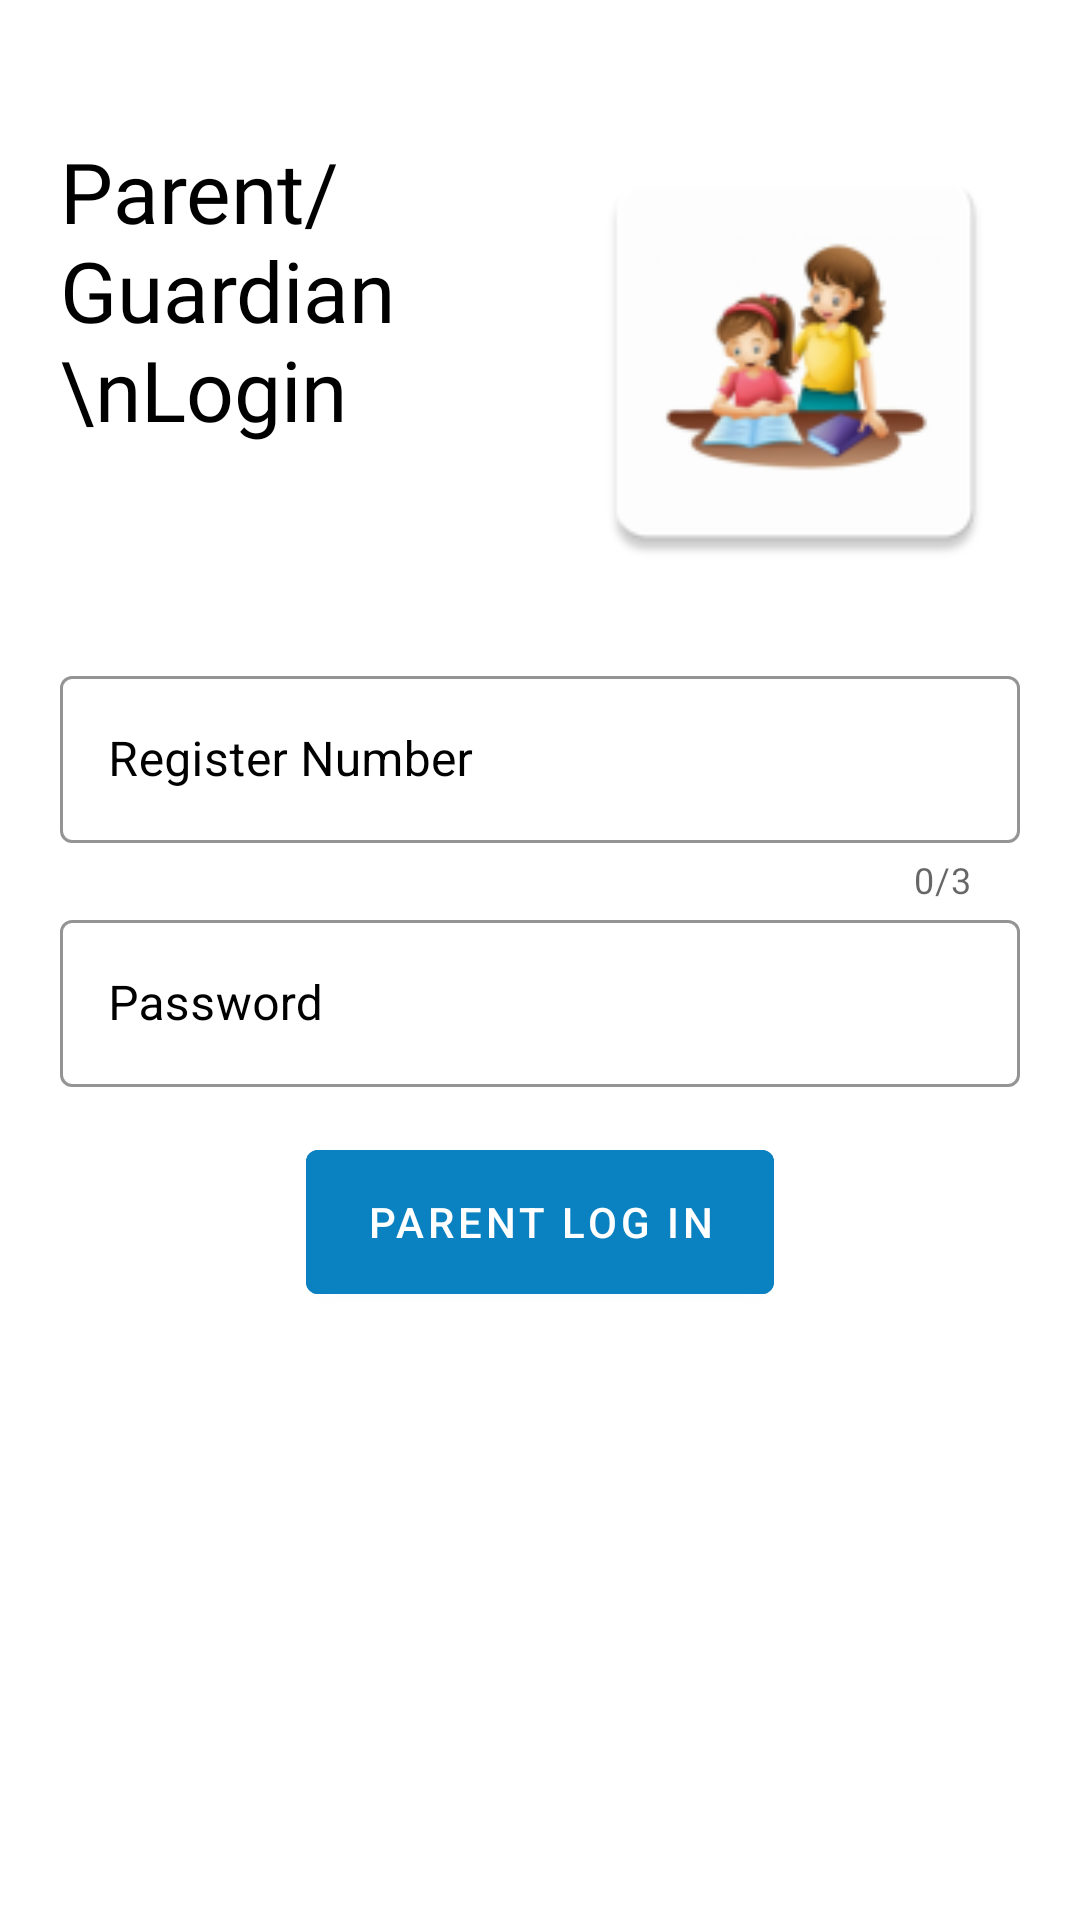

Locate icon controls on the screen. Image size 1080 x 1920, boxes as [x1, y1, x2, y2].
parents: [617, 200, 976, 549]
